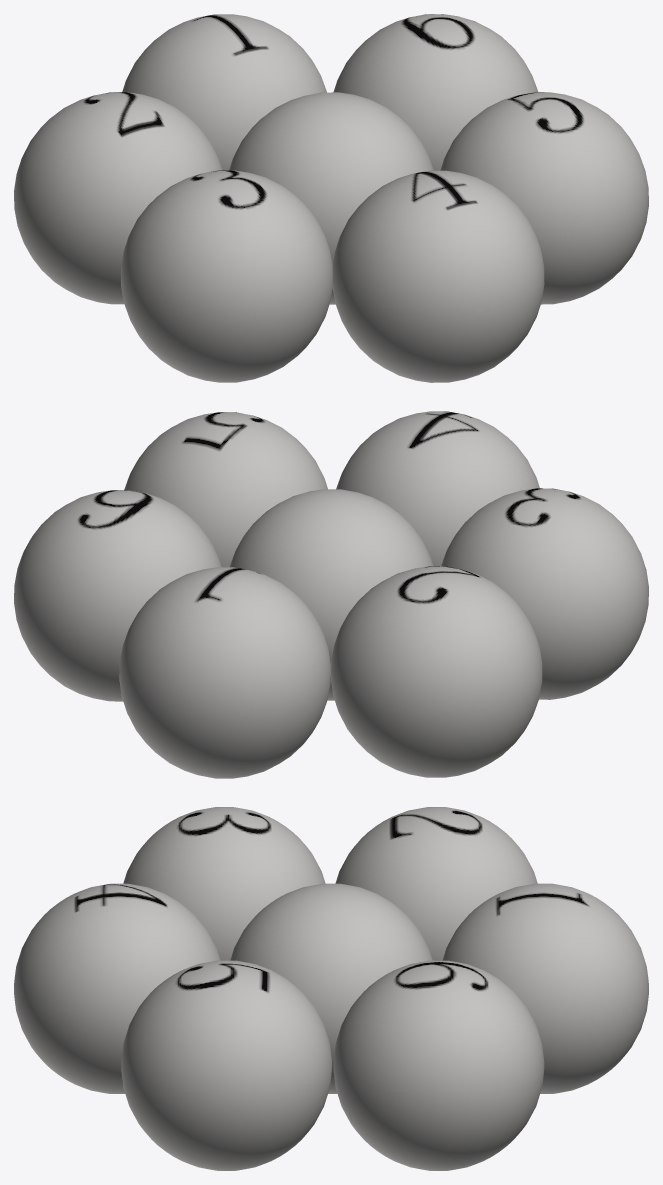
The model's file is liufang1_2.FBX.
3 views of the same model, one above another, from view 1: azimuth 30°, elevation 25°; view 2: azimuth 150°, elevation 25°; view 3: azimuth 270°, elevation 25° (orthographic).
Parts seen in each view (by area): view 1: 对象363; view 2: 对象363; view 3: 对象363.
Part boxes in pixels (x1,y1,x2,y2): 对象363: (14,14,648,382); 对象363: (14,411,648,778); 对象363: (14,807,648,1170).
Size of the model in its own units: 109 by 40 by 120.
1 material, 1 textured.
